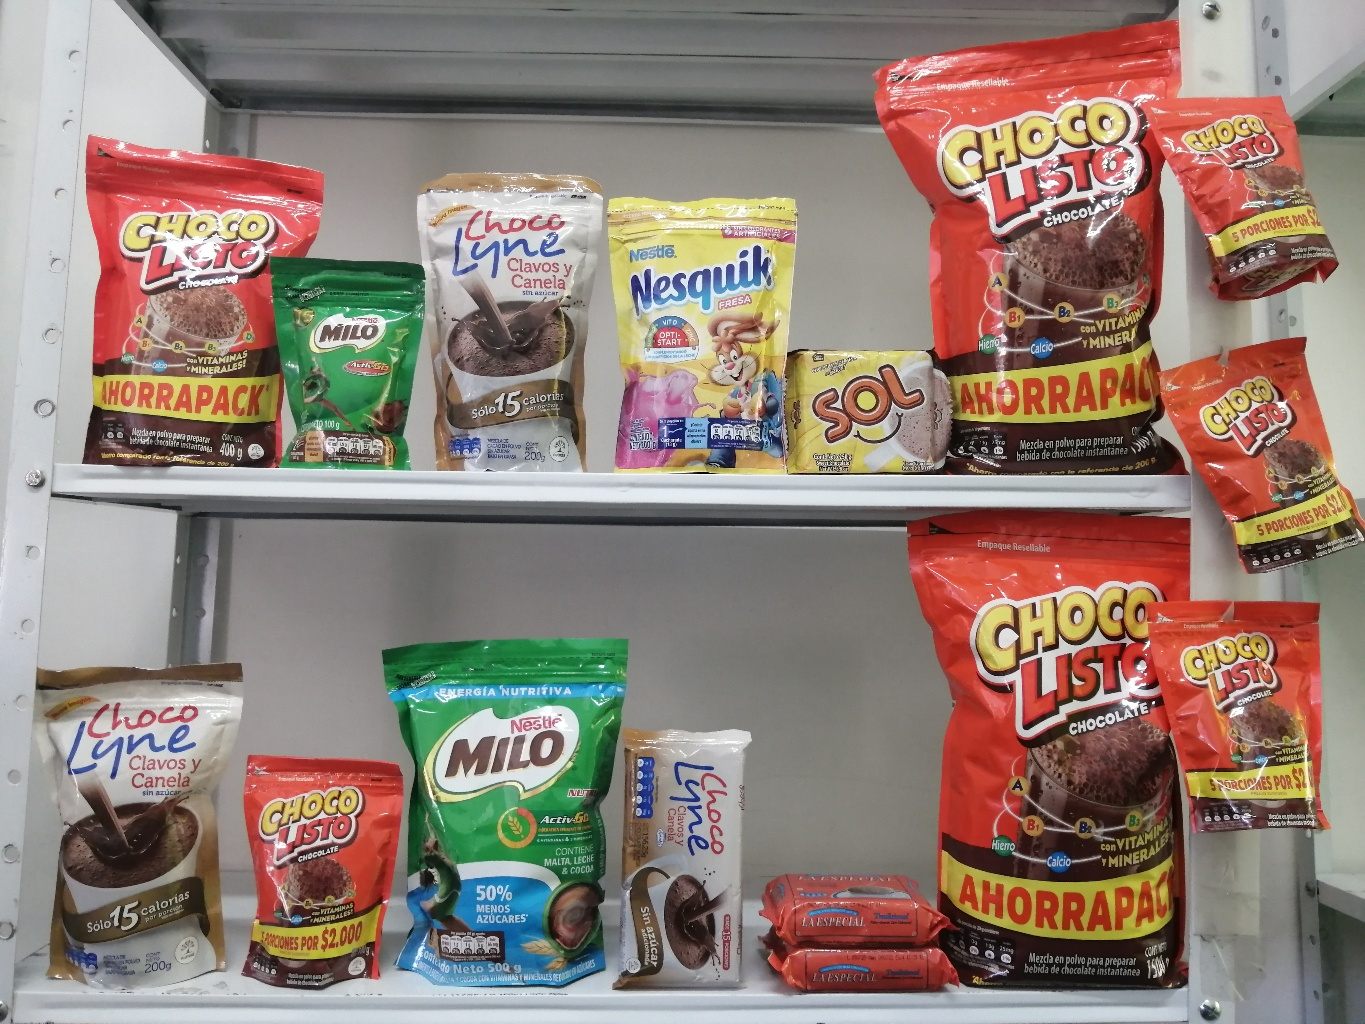COL0170103DYP1,500: (863, 32, 1188, 475)
COL0170103DYP10000: (1135, 85, 1339, 302)
COL0170103DYP40000: (84, 139, 314, 475)
COL0170203DYP10000: (270, 253, 428, 473)
COL0170205DYP50000: (376, 641, 624, 989)
COL0170305DYP20000: (609, 189, 792, 473)
